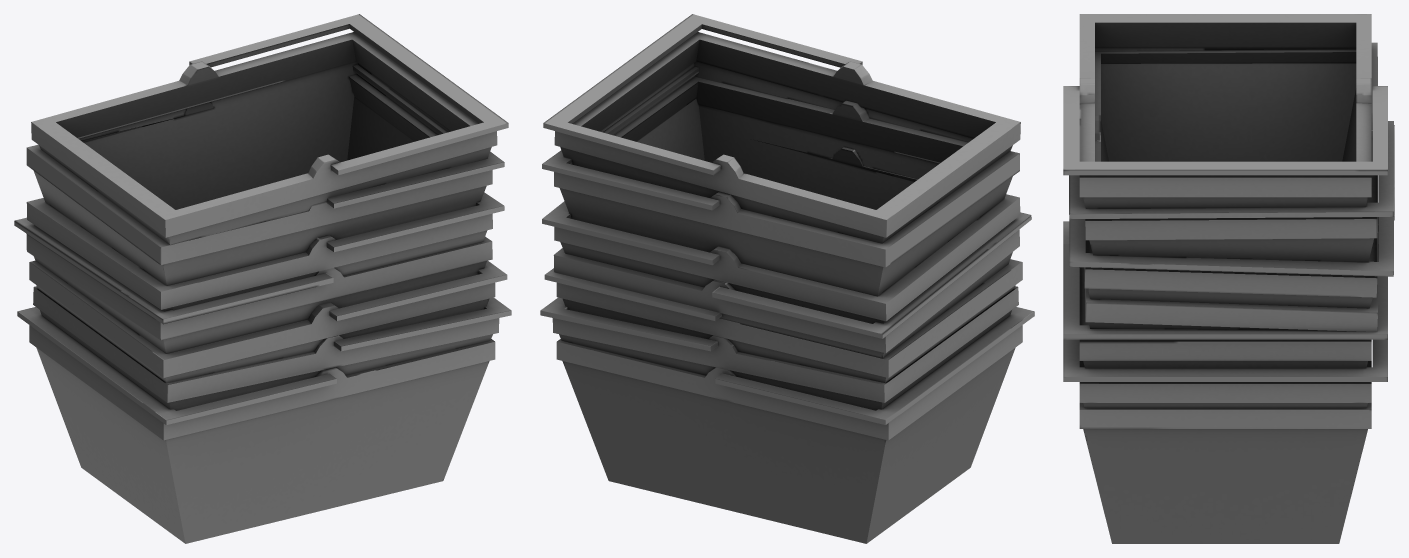
Rendered from basket.fbx.
The picture shows the model from 3 angles, left to right: view 1: azimuth 30°, elevation 25°; view 2: azimuth 150°, elevation 25°; view 3: azimuth 270°, elevation 25°; orthographic projection. The views are drawn at different scales.
Parts seen in each view (by area): view 1: Plane.001; view 2: Plane.001; view 3: Plane.001.
Part boxes in pixels (x1,y1,x2,y2): Plane.001: (14,14,511,543); Plane.001: (540,14,1034,543); Plane.001: (1063,14,1394,543).
Size of the model in its own units: 81.02 by 81.61 by 61.81.
Materials: 1 (1 with a texture image).
